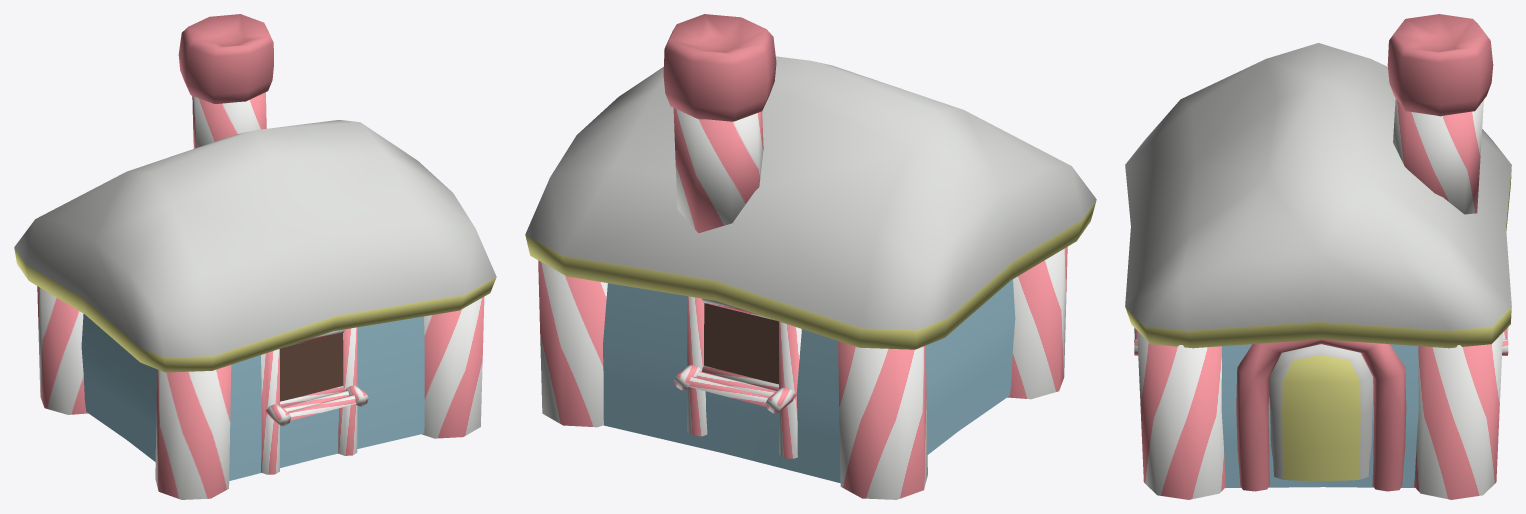
File: house_log.fbx
3 renders of one model, left to right at view 1: azimuth 30°, elevation 25°; view 2: azimuth 150°, elevation 25°; view 3: azimuth 270°, elevation 25°, orthographic. The views are drawn at different scales.
Parts seen in each view (by area): view 1: Cube.004; view 2: Cube.004; view 3: Cube.004.
Part boxes in pixels (x1,y1,x2,y2): Cube.004: (14, 14, 496, 499); Cube.004: (525, 14, 1096, 499); Cube.004: (1125, 14, 1511, 499).
Size of the model in its own units: 518 by 489 by 440.
